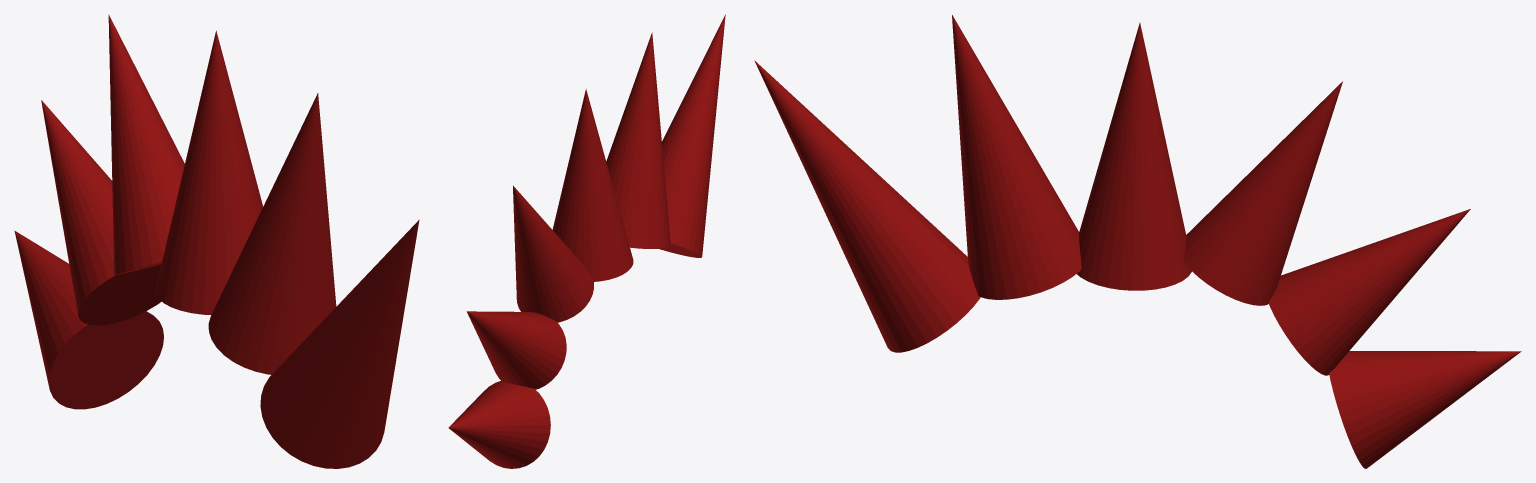
The model's file is Red_Pointed_Hair.fbx.
The picture shows the model from 3 angles, left to right: view 1: azimuth 30°, elevation 25°; view 2: azimuth 150°, elevation 25°; view 3: azimuth 270°, elevation 25°; orthographic projection. The views are drawn at different scales.
Parts seen in each view (by area): view 1: Pointed_Red_Hair_Melee; view 2: Pointed_Red_Hair_Melee; view 3: Pointed_Red_Hair_Melee.
Part boxes in pixels (left/top/right/bottom): Pointed_Red_Hair_Melee: left=14, top=14, right=419, bottom=468; Pointed_Red_Hair_Melee: left=448, top=14, right=725, bottom=468; Pointed_Red_Hair_Melee: left=754, top=15, right=1521, bottom=468.
Bounding box in the file's own units: 20.21 × 80.16 × 124.
